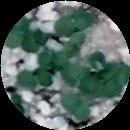Basil: (60, 62, 96, 92), (56, 12, 91, 36), (4, 16, 29, 49), (15, 69, 57, 88), (105, 63, 129, 96), (38, 50, 67, 71), (65, 94, 88, 119), (24, 31, 49, 51)
